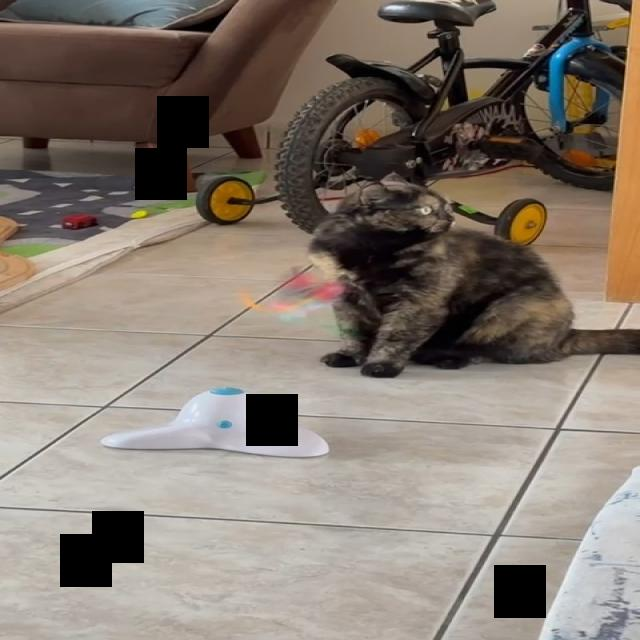authorized: (304, 171, 639, 378)
